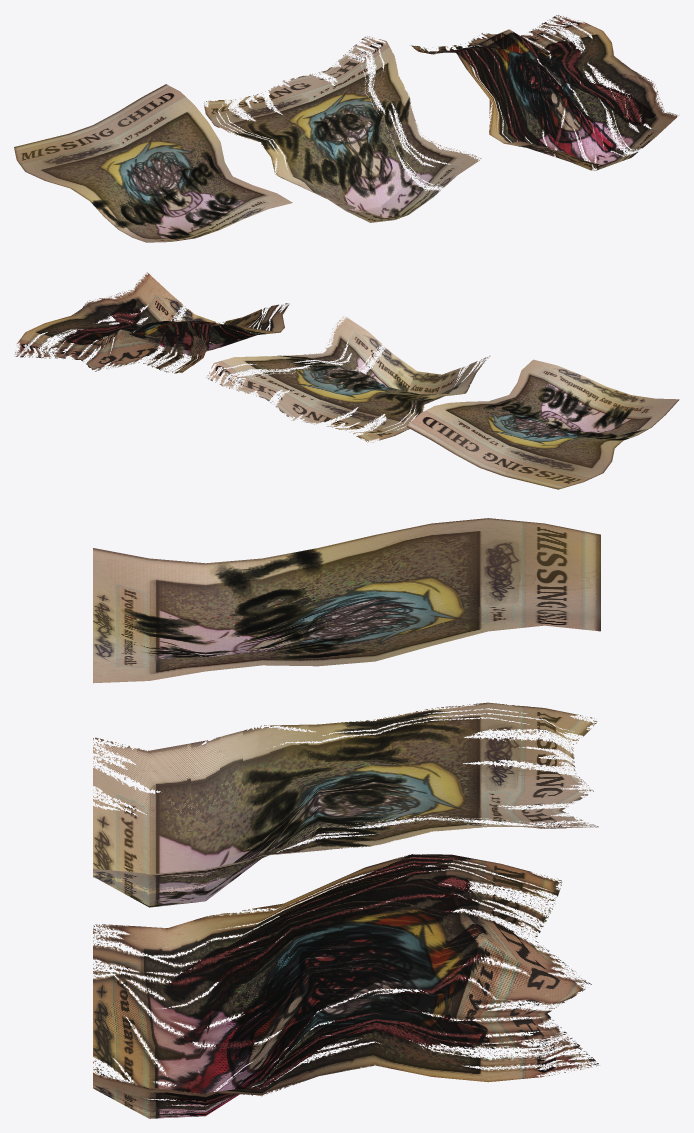
Rendered from posters.fbx.
3 renders of one model, top to bottom at view 1: azimuth 30°, elevation 25°; view 2: azimuth 150°, elevation 25°; view 3: azimuth 270°, elevation 25°, orthographic. The views are drawn at different scales.
Visible parts, largest first — view 1: Poster 2, Poster 1, Poster 3; view 2: Poster 1, Poster 2, Poster 3; view 3: Poster 3, Poster 2, Poster 1.
Part boxes in pixels (x1=…): Poster 2: x1=204, y1=36, x2=481, y2=222; Poster 1: x1=14, y1=84, x2=292, y2=242; Poster 3: x1=411, y1=15, x2=678, y2=170; Poster 1: x1=406, y1=359, x2=679, y2=489; Poster 2: x1=206, y1=316, x2=489, y2=442; Poster 3: x1=14, y1=272, x2=289, y2=373; Poster 3: x1=93, y1=854, x2=598, y2=1118; Poster 2: x1=93, y1=702, x2=598, y2=907; Poster 1: x1=93, y1=518, x2=600, y2=683.
Size of the model in its own units: 473 by 69.11 by 180.
